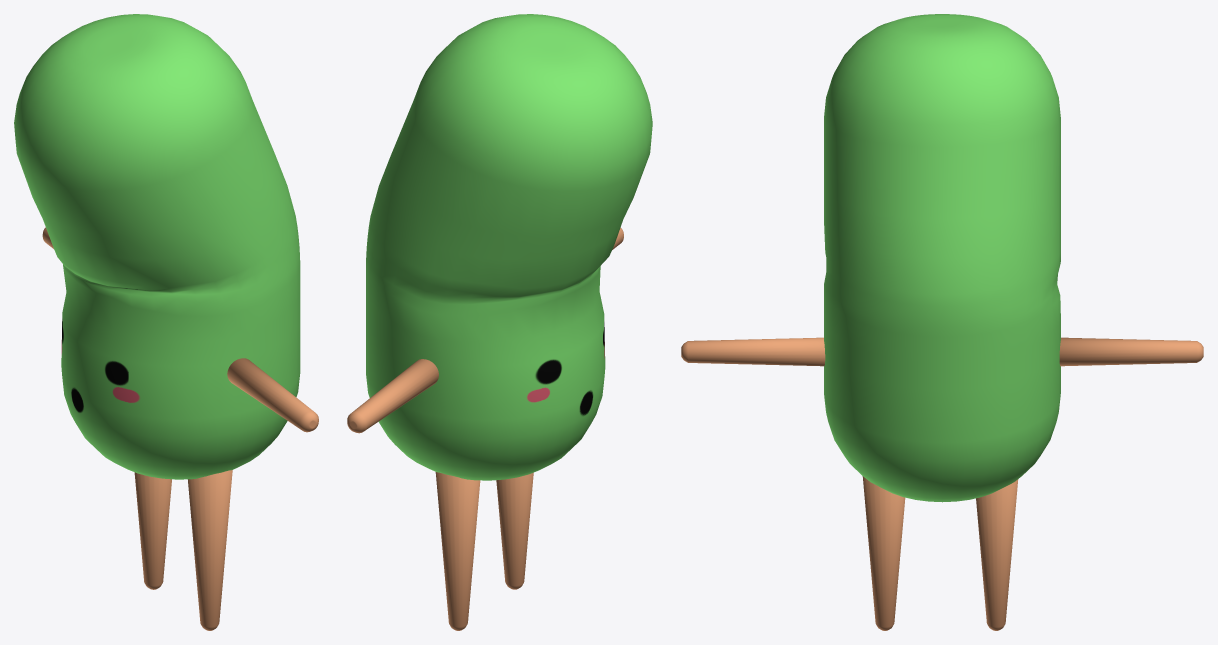
Rendered from beanboi2.glb.
3 renders of one model, left to right at view 1: azimuth 30°, elevation 25°; view 2: azimuth 150°, elevation 25°; view 3: azimuth 270°, elevation 25°, orthographic.
Parts seen in each view (by area): view 1: Cylinder.001, leg.001, leg, arm.001; view 2: Cylinder.001, leg, leg.001, arm; view 3: Cylinder.001, leg.001, leg, arm, arm.001.
Boxes of the visible parts, x1,y1,x2,y2 form: Cylinder.001: (14,14,300,479); leg.001: (188,470,232,630); leg: (134,472,171,589); arm.001: (227,358,318,432); Cylinder.001: (366,14,652,480); leg: (435,472,480,630); leg.001: (496,472,533,589); arm: (347,359,438,433); Cylinder.001: (824,14,1060,502); leg.001: (862,476,905,630); leg: (976,479,1018,630); arm: (1059,337,1203,366); arm.001: (681,337,825,366).
Bounding box in the file's own units: 5.22 × 11.51 × 9.37.
2 materials, 1 textured.
